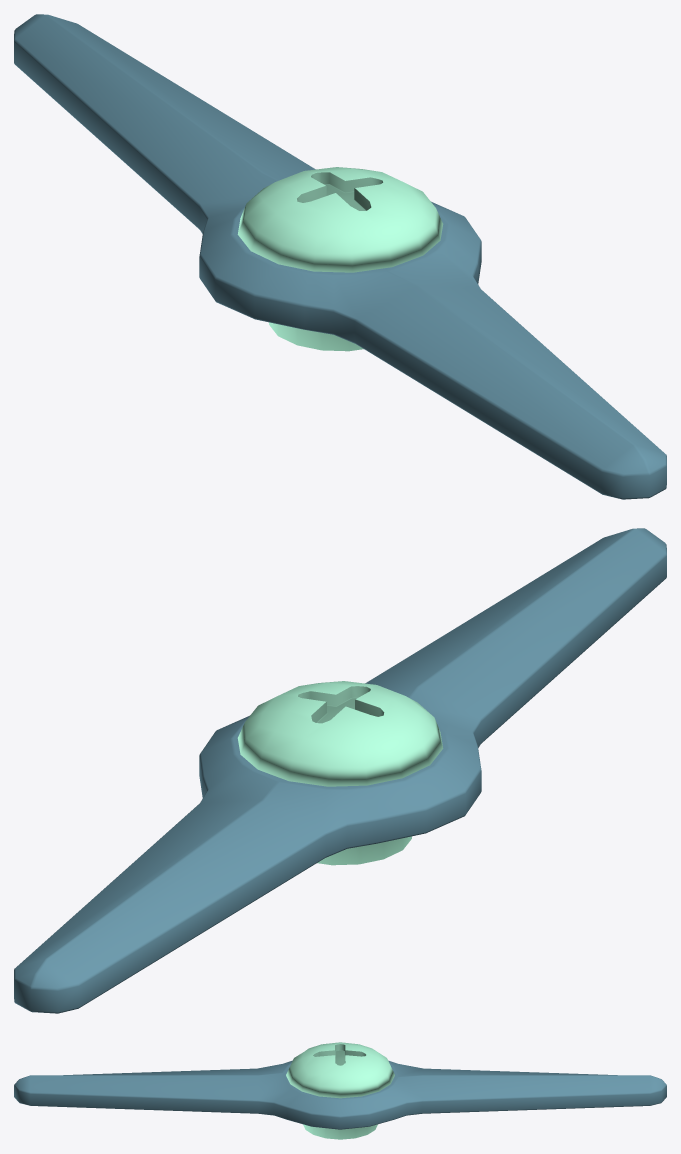
The model's file is Porpeller.fbx.
3 renders of one model, top to bottom at view 1: azimuth 30°, elevation 25°; view 2: azimuth 150°, elevation 25°; view 3: azimuth 270°, elevation 25°, orthographic. The views are drawn at different scales.
Visible parts, largest first — view 1: Porpeller, Porpeller_screw, Porpeller_screw_dark; view 2: Porpeller, Porpeller_screw, Porpeller_screw_dark; view 3: Porpeller, Porpeller_screw, Porpeller_screw_dark.
Part boxes in pixels (x1=…): Porpeller: x1=14, y1=14, x2=666, y2=499; Porpeller_screw: x1=237, y1=167, x2=443, y2=351; Porpeller_screw_dark: x1=297, y1=172, x2=382, y2=210; Porpeller: x1=14, y1=528, x2=666, y2=1013; Porpeller_screw: x1=237, y1=681, x2=443, y2=865; Porpeller_screw_dark: x1=298, y1=686, x2=384, y2=723; Porpeller: x1=14, y1=1060, x2=666, y2=1129; Porpeller_screw: x1=286, y1=1042, x2=394, y2=1139; Porpeller_screw_dark: x1=313, y1=1044, x2=365, y2=1065.
Size of the model in its own units: 77.75 by 39.9 by 333.
